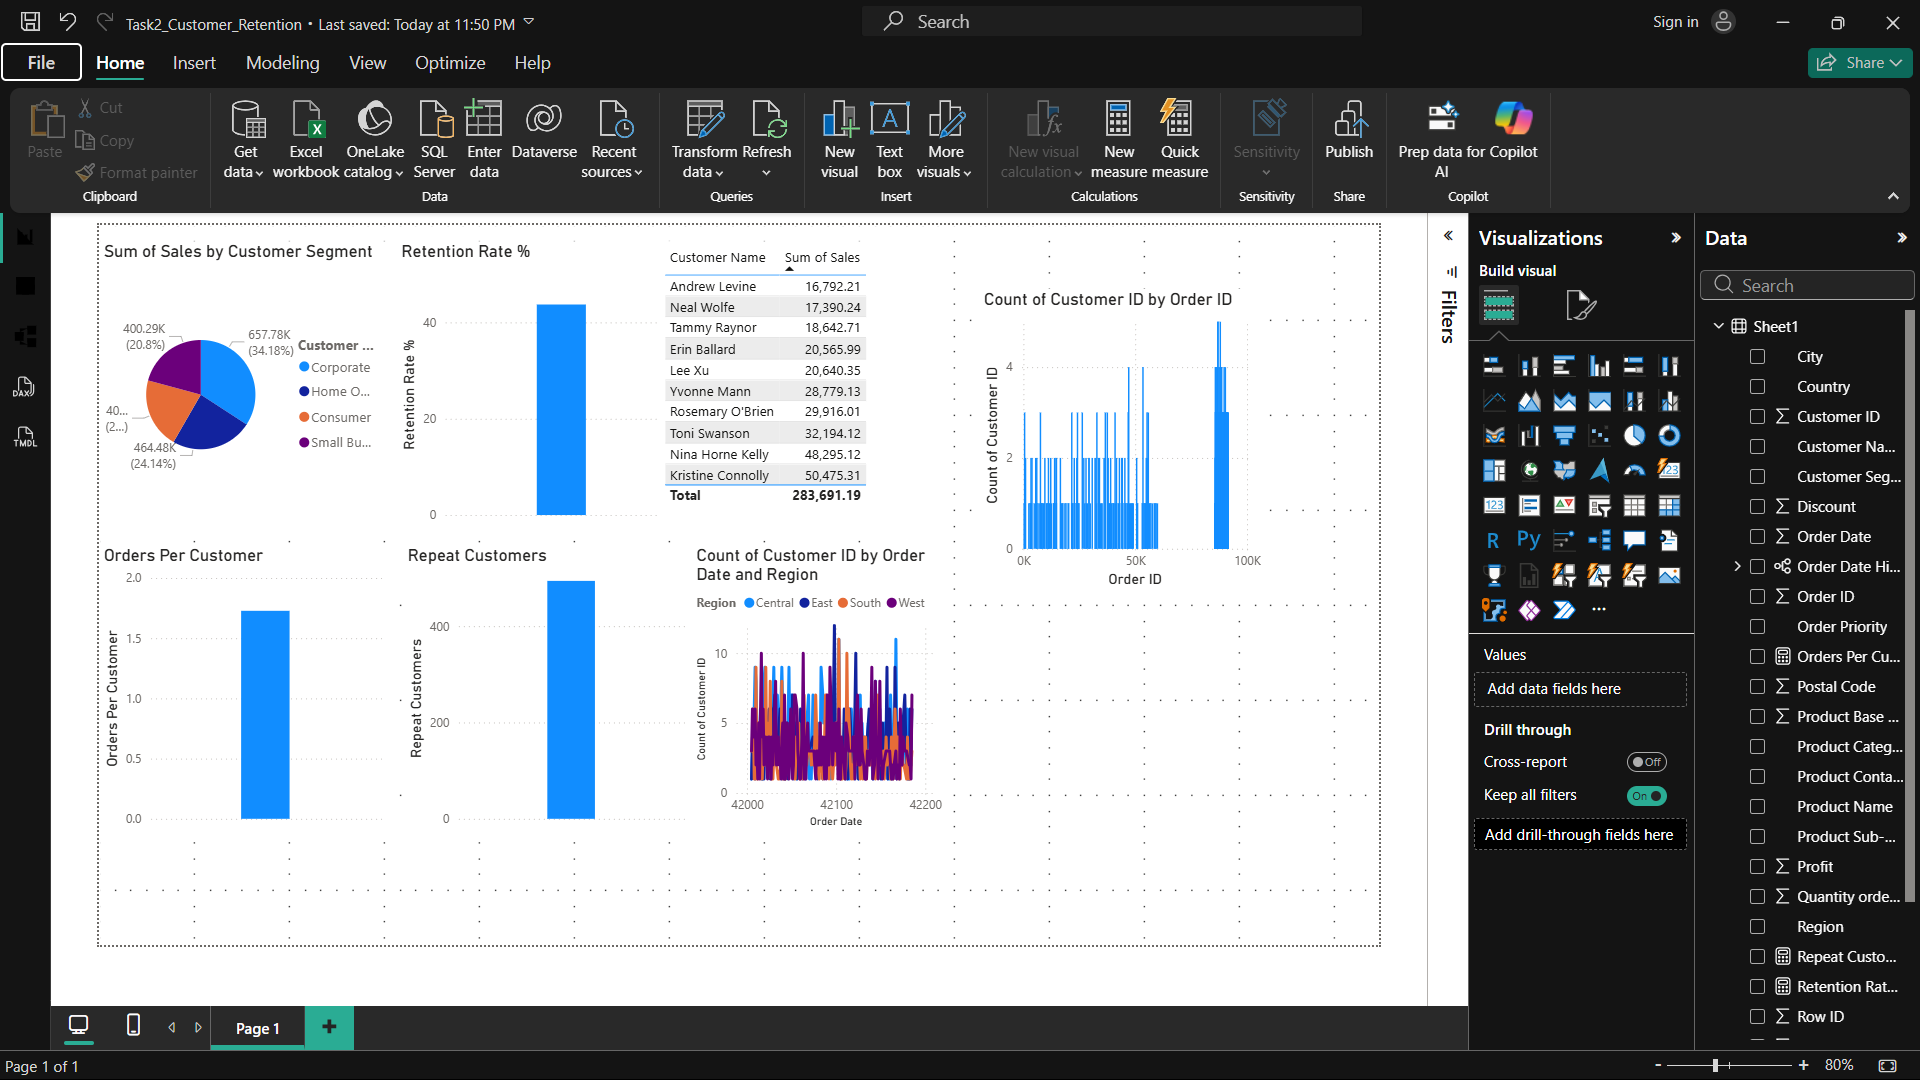

Layout of this report page (visuals, bound fields, positions):
{"tool":"powerbi","page":{"name":"Page 1","canvas":[1280,720],"ordinal":0},"visuals":[{"type":"pieChart","fields":{"Category":["Sales Data.Customer Segment"],"Y":["Sum(Sales Data.Sales)"]},"box":[0,16,288,288],"z":0},{"type":"clusteredColumnChart","fields":{"Y":["Sheet1.Orders Per Customer"]},"box":[0,320,288,288],"z":1},{"type":"clusteredColumnChart","fields":{"Y":["Sheet1.Retention Rate %"]},"box":[298,16,288,288],"z":2},{"type":"clusteredColumnChart","fields":{"Y":["Sheet1.Repeat Customers"]},"box":[304,320,288,288],"z":3},{"type":"tableEx","fields":{"Values":["Sheet1.Customer Name","Sum(Sheet1.Sales)"]},"box":[560,16,288,288],"z":4},{"type":"lineChart","fields":{"Category":["Sheet1.Order Date"],"Y":["CountNonNull(Sheet1.Customer ID)"],"Series":["Sheet1.Region"]},"box":[592,320,256,288],"z":5},{"type":"columnChart","fields":{"Category":["Sheet1.Order ID"],"Y":["CountNonNull(Sheet1.Customer ID)"]},"box":[880,64,288,304],"z":6}]}

Visuals, with their boxes on the page's 1280x720 design canvas (x1, y1, x2, y2). These are canvas units, not pixel positions in the 1920x1080 screenshot, which may show the page scaled, cropped or inside an application window:
pieChart - Sales Data.Customer Segment x Sum(Sales Data.Sales): BBox(0, 16, 288, 304)
clusteredColumnChart - Sheet1.Orders Per Customer: BBox(0, 320, 288, 608)
clusteredColumnChart - Sheet1.Retention Rate %: BBox(298, 16, 586, 304)
clusteredColumnChart - Sheet1.Repeat Customers: BBox(304, 320, 592, 608)
tableEx - Sheet1.Customer Name x Sum(Sheet1.Sales): BBox(560, 16, 848, 304)
lineChart - Sheet1.Order Date x CountNonNull(Sheet1.Customer ID): BBox(592, 320, 848, 608)
columnChart - Sheet1.Order ID x CountNonNull(Sheet1.Customer ID): BBox(880, 64, 1168, 368)
